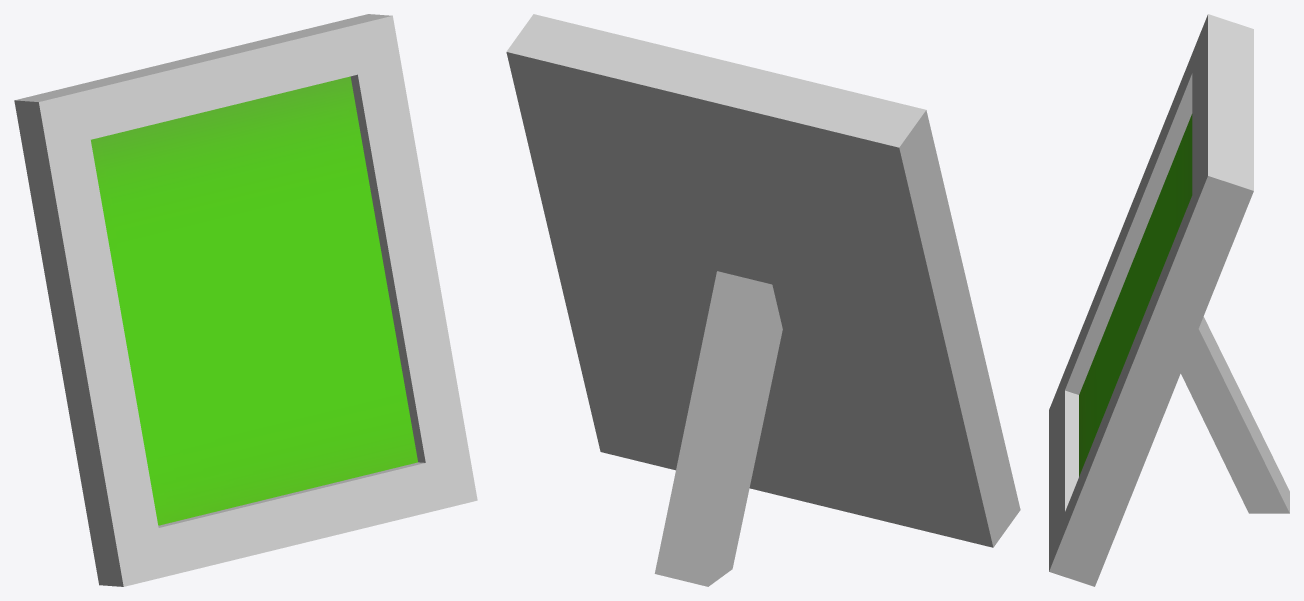
The model's file is 09_painting_small_2.glb.
The picture shows the model from 3 angles, left to right: view 1: azimuth 30°, elevation 25°; view 2: azimuth 150°, elevation 25°; view 3: azimuth 270°, elevation 25°; orthographic projection. The views are drawn at different scales.
Visible parts, largest first — view 1: Painting_Small2; view 2: Painting_Small2; view 3: Painting_Small2.
Boxes of the visible parts, x1,y1,x2,y2 form: Painting_Small2: [14, 14, 477, 586]; Painting_Small2: [506, 14, 1020, 586]; Painting_Small2: [1049, 14, 1289, 586].
Bounding box in the file's own units: 0.2078 × 0.2461 × 0.1307.
2 materials, 1 textured.
